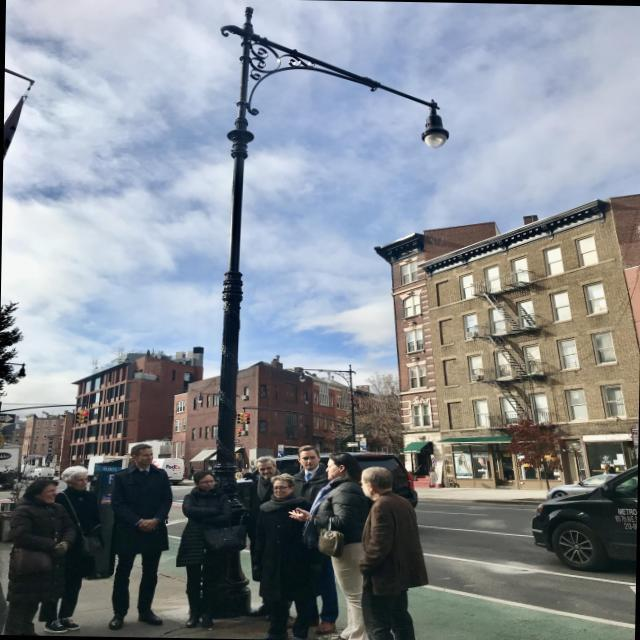off: (213, 0, 618, 162)
